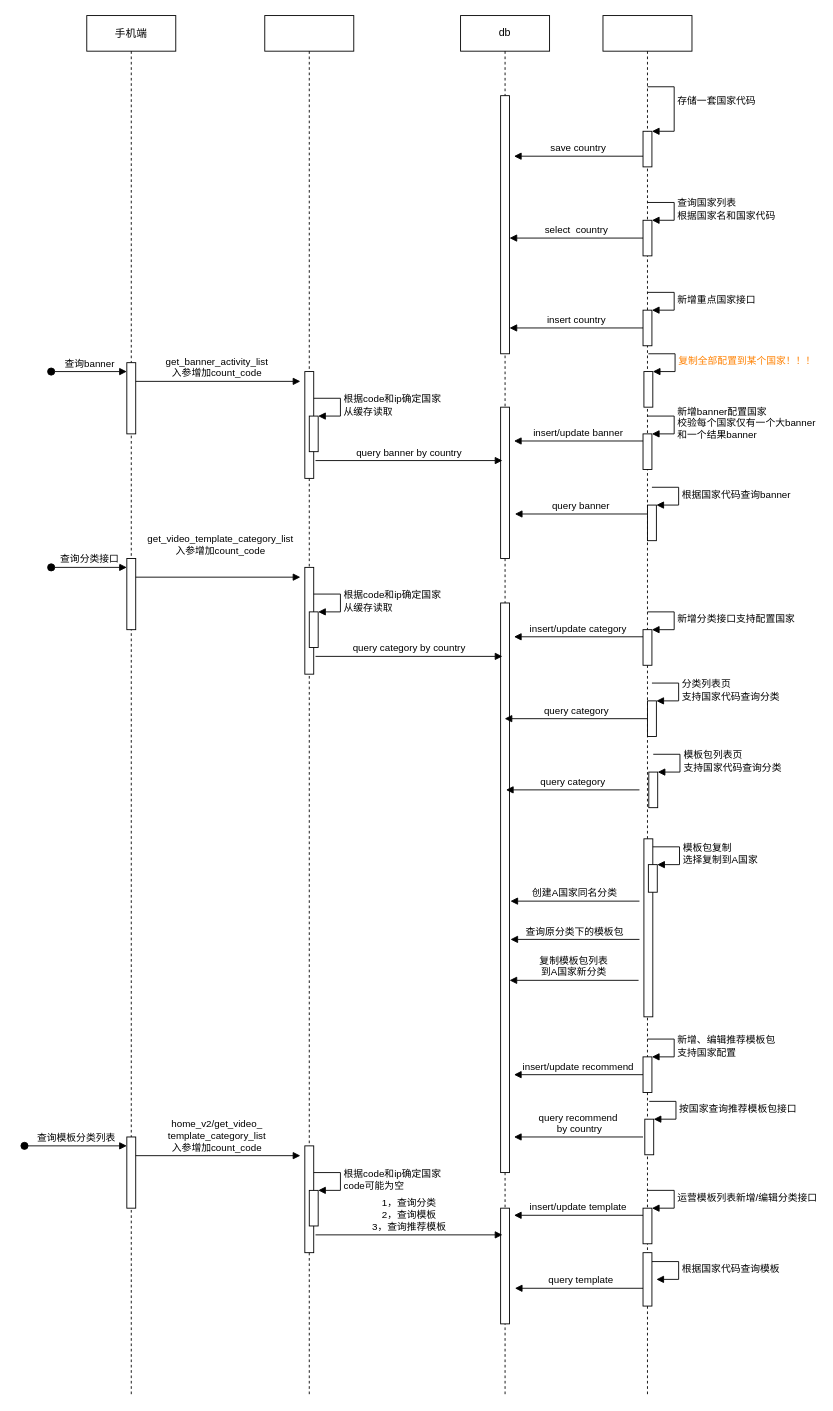
Some shapes in this 833 by 1411 pixel diagram are drawn without their labels. The shapes that lost their labels are listed below. From the top down, each one's centre as x and y in pixels, then its label:
At (309,705): "server端".
At (647,705): "config端".
